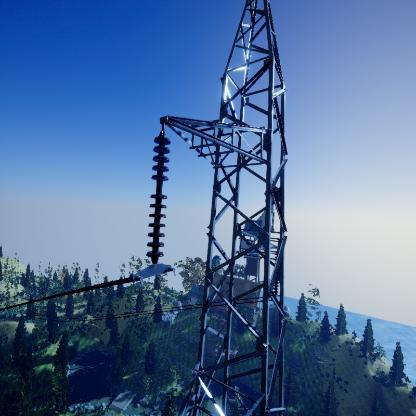insulator: (145, 136, 172, 262)
